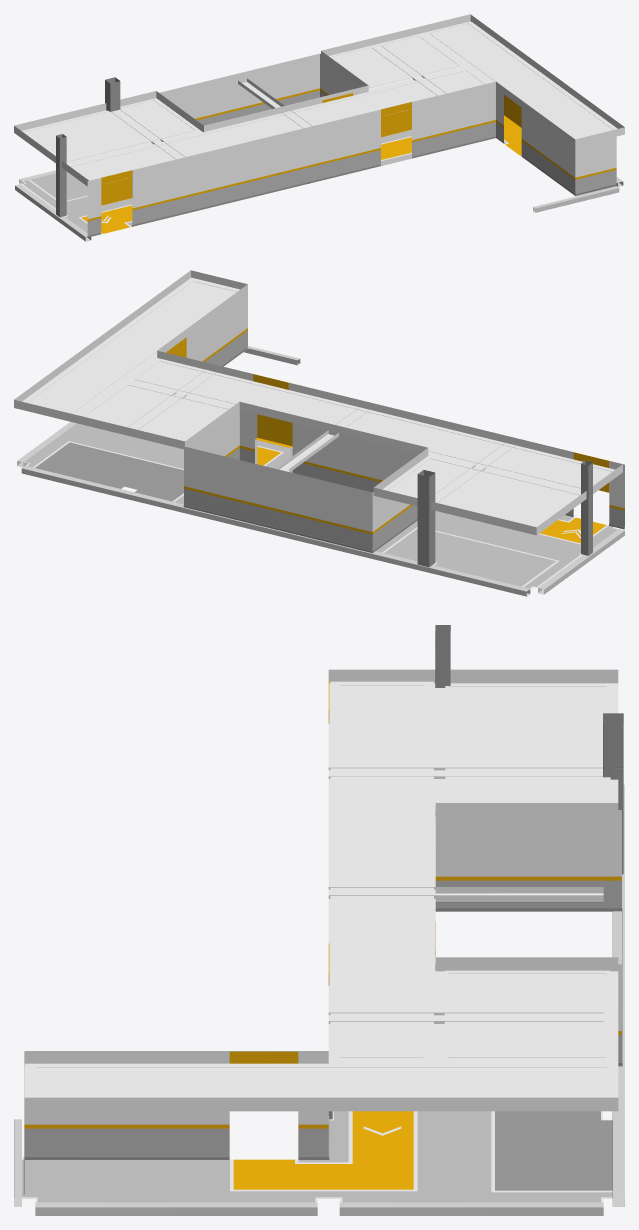
3 renders of one model, top to bottom at view 1: azimuth 30°, elevation 25°; view 2: azimuth 150°, elevation 25°; view 3: azimuth 270°, elevation 25°, orthographic. The views are drawn at different scales.
Parts seen in each view (by area): view 1: SM_H_Building_FutureTech_AssemblyArea_InterWall_06B; view 2: SM_H_Building_FutureTech_AssemblyArea_InterWall_06B; view 3: SM_H_Building_FutureTech_AssemblyArea_InterWall_06B.
Part boxes in pixels (box(x1,y1,x2,y2)): SM_H_Building_FutureTech_AssemblyArea_InterWall_06B: box(14, 14, 624, 241); SM_H_Building_FutureTech_AssemblyArea_InterWall_06B: box(14, 270, 624, 596); SM_H_Building_FutureTech_AssemblyArea_InterWall_06B: box(14, 625, 624, 1215).
Size of the model in its own units: 924 by 1545 by 267.
